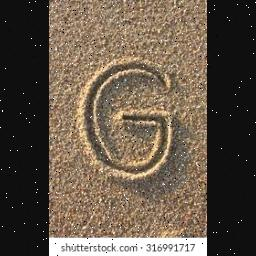g: (70, 47, 182, 185)
